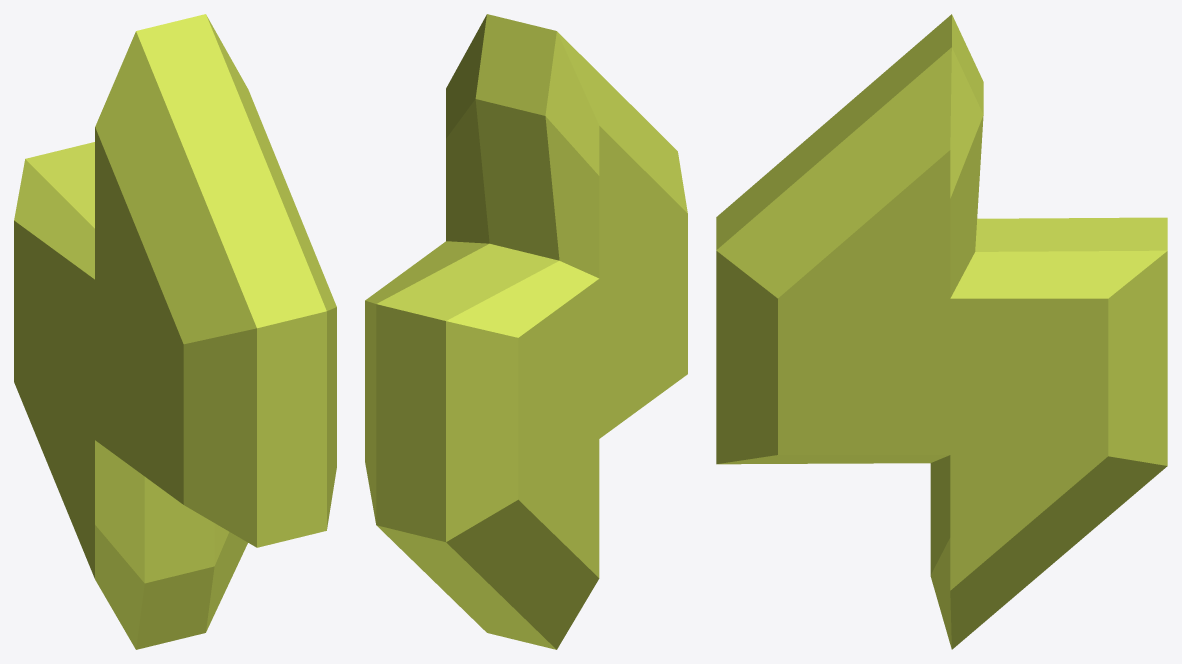
The model's file is Dash.fbx.
The picture shows the model from 3 angles, left to right: view 1: azimuth 30°, elevation 25°; view 2: azimuth 150°, elevation 25°; view 3: azimuth 270°, elevation 25°; orthographic projection. The views are drawn at different scales.
Parts seen in each view (by area): view 1: Cube.001; view 2: Cube.001; view 3: Cube.001.
Boxes of the visible parts, left/top/right/bottom form: Cube.001: left=14, top=14, right=336, bottom=649; Cube.001: left=365, top=14, right=687, bottom=649; Cube.001: left=716, top=14, right=1167, bottom=649.
Bounding box in the file's own units: 31.94 × 123 × 83.67.
